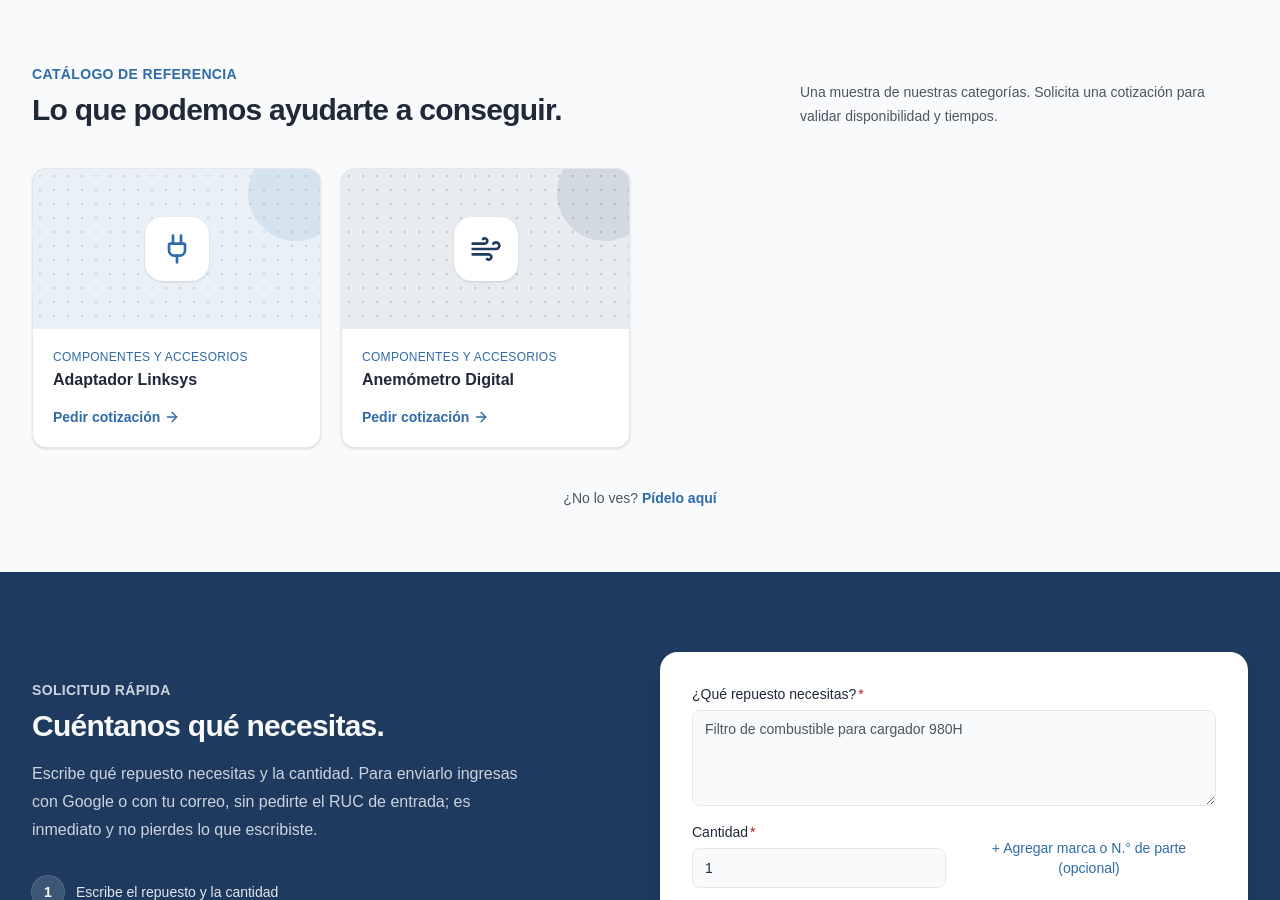
Test: Del catálogo a la Solicitud rápida (v3.4) › «Pedir cotización» en un producto escribe ese producto en el formulario y mantiene el ancla
The image size is (1280, 900).
Click the link "Pedir cotización" below "Anemómetro Digital" at (426,417), box top-left (362, 409), bottom-right (489, 425)
(page scrolled)
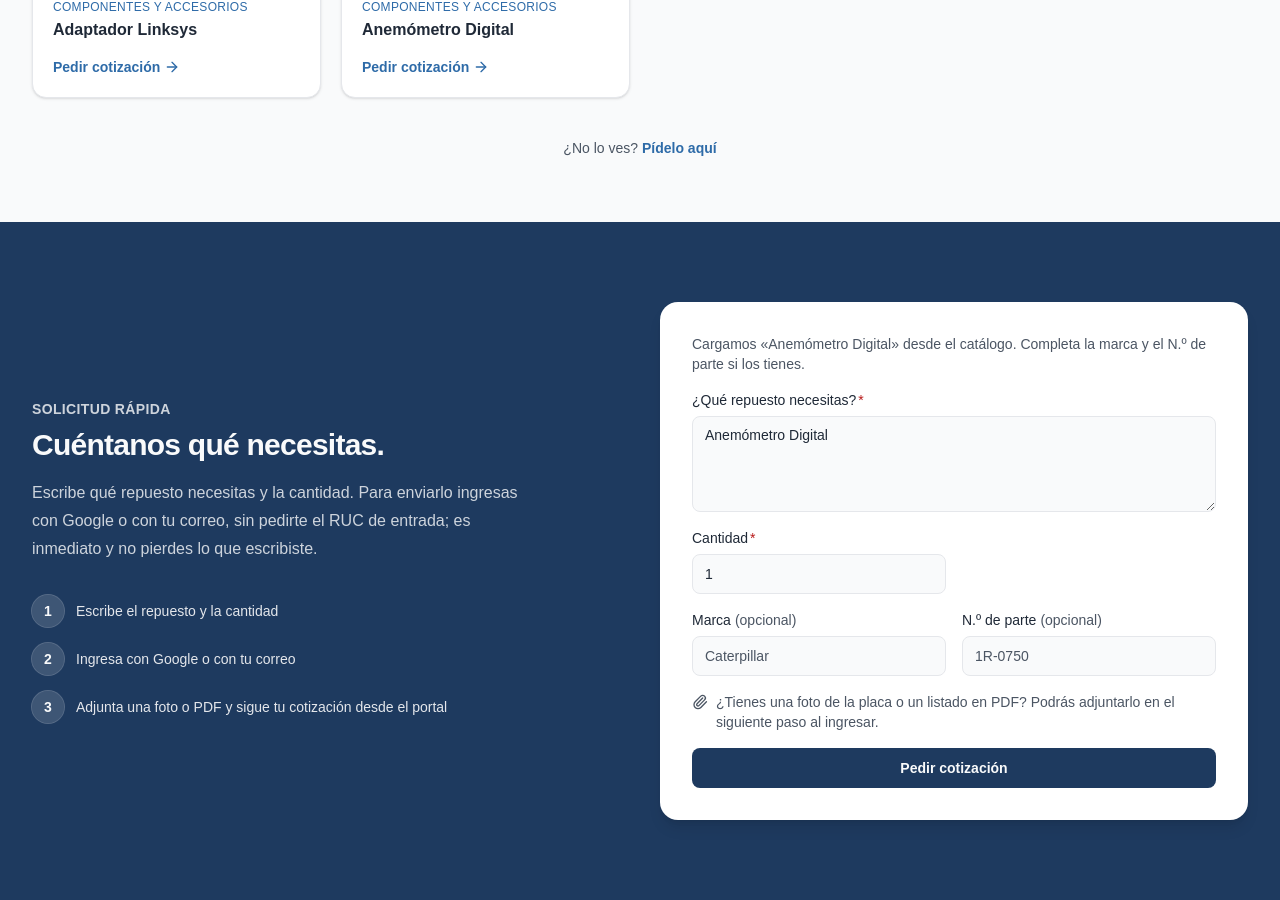
Expected: the text box labelled "¿Qué repuesto necesitas?*" holds "Anemómetro Digital", top-left (692, 416), bottom-right (1216, 512)
Expected: the field labelled "Marca(opcional)" is empty, top-left (692, 636), bottom-right (946, 676)
Expected: the message shows "Anemómetro Digital", top-left (768, 336), bottom-right (891, 352)
